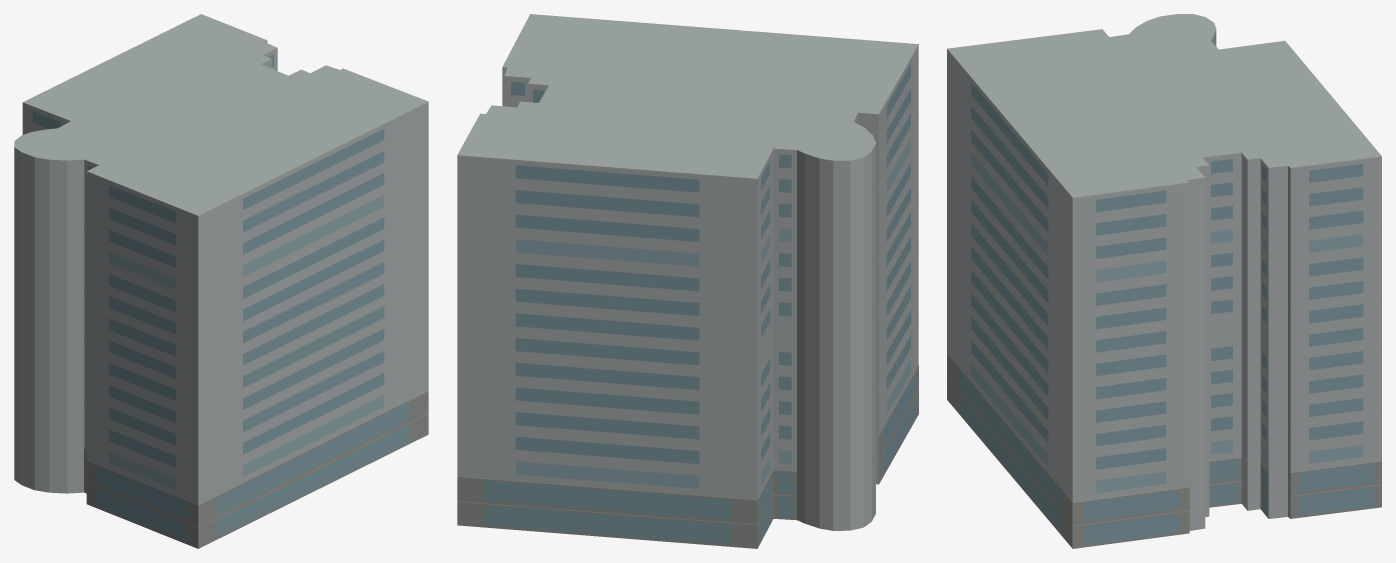
File: survey-upis-32765547.glb
3 views of the same model, side by side, from view 1: azimuth 30°, elevation 25°; view 2: azimuth 150°, elevation 25°; view 3: azimuth 270°, elevation 25° (orthographic). The views are drawn at different scales.
Visible parts, largest first — view 1: survey-upis-32765547.tmp; view 2: survey-upis-32765547.tmp; view 3: survey-upis-32765547.tmp.
Boxes of the visible parts, x1,y1,x2,y2 form: survey-upis-32765547.tmp: (14,14,428,548); survey-upis-32765547.tmp: (457,14,918,548); survey-upis-32765547.tmp: (947,14,1381,548).
Bounding box in the file's own units: 77.97 × 69.45 × 77.96.
